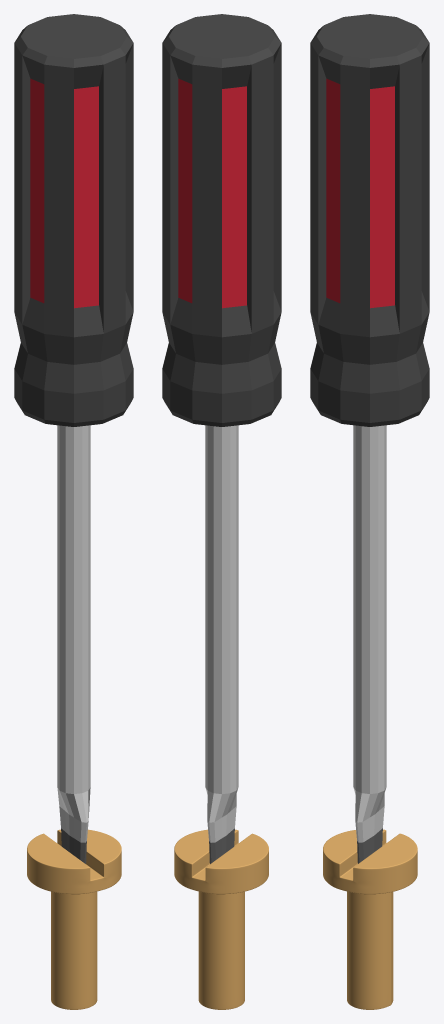
Rendered from screwdriver.gltf.
The picture shows the model from 3 angles, left to right: view 1: azimuth 30°, elevation 25°; view 2: azimuth 150°, elevation 25°; view 3: azimuth 330°, elevation 25°; orthographic projection.
Visible parts, largest first — view 1: Screwdriver, Object_3; view 2: Screwdriver, Object_3; view 3: Screwdriver, Object_3.
Boxes of the visible parts, <box> form: Screwdriver: <box>14,14,133,863</box>; Object_3: <box>27,829,121,1009</box>; Screwdriver: <box>162,14,281,863</box>; Object_3: <box>174,829,268,1009</box>; Screwdriver: <box>310,14,429,863</box>; Object_3: <box>323,829,417,1009</box>.
Bounding box in the file's own units: 0.7191 × 6.41 × 0.7191.
